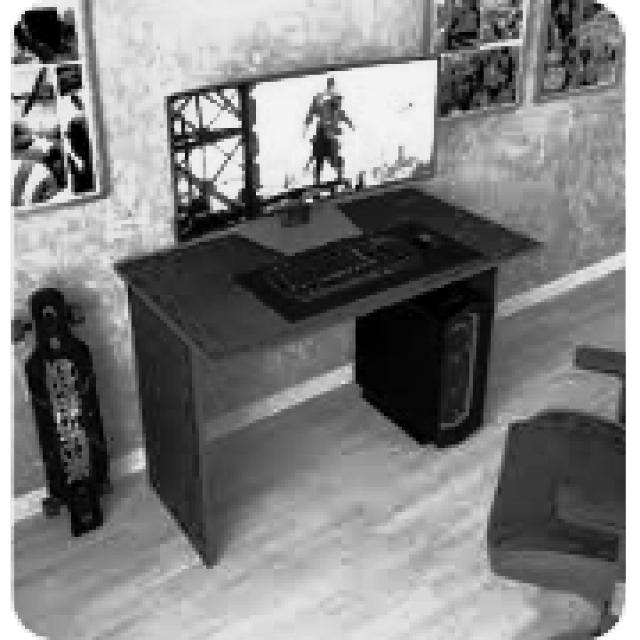table: (110, 182, 544, 566)
